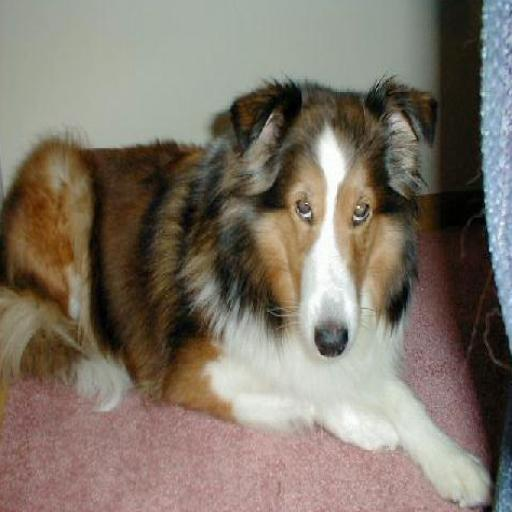dog_face: (227, 75, 435, 362)
